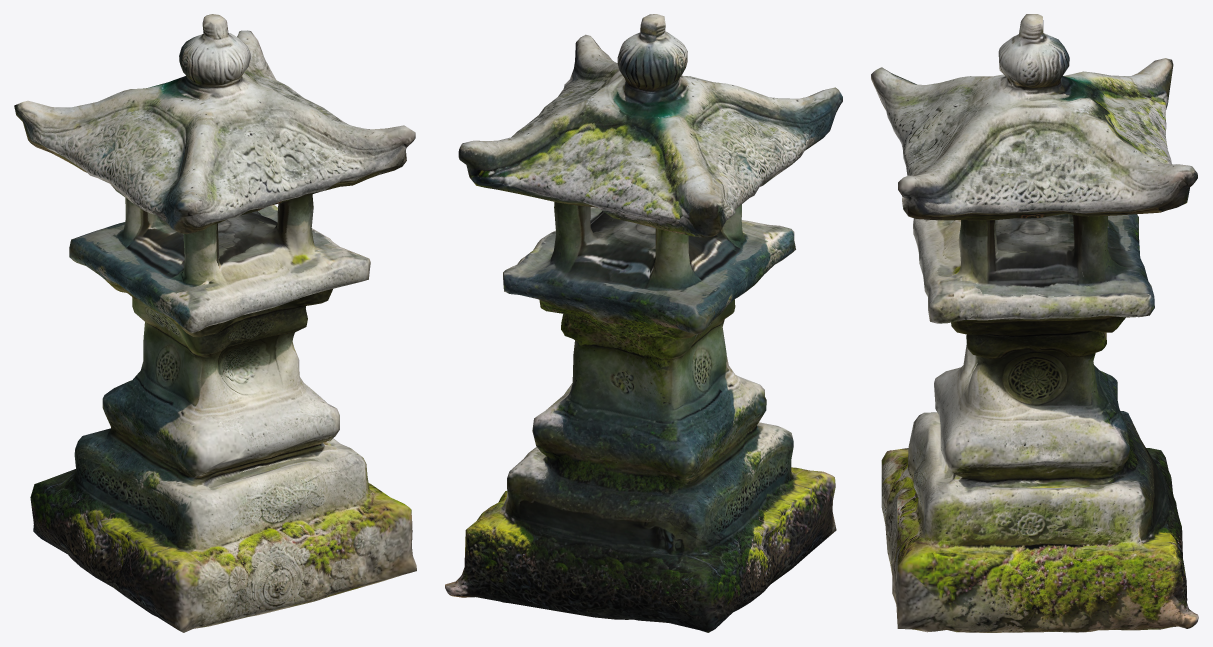
Rendered from Create_a_detailed_3D_model_of_a_traditional_Japanese_stone_la_0615060847_refine.glb.
3 views of the same model, side by side, from view 1: azimuth 30°, elevation 25°; view 2: azimuth 150°, elevation 25°; view 3: azimuth 270°, elevation 25° (orthographic).
Size of the model in its own units: 0.6096 by 1.2 by 0.6348.
1 material, 1 textured.
